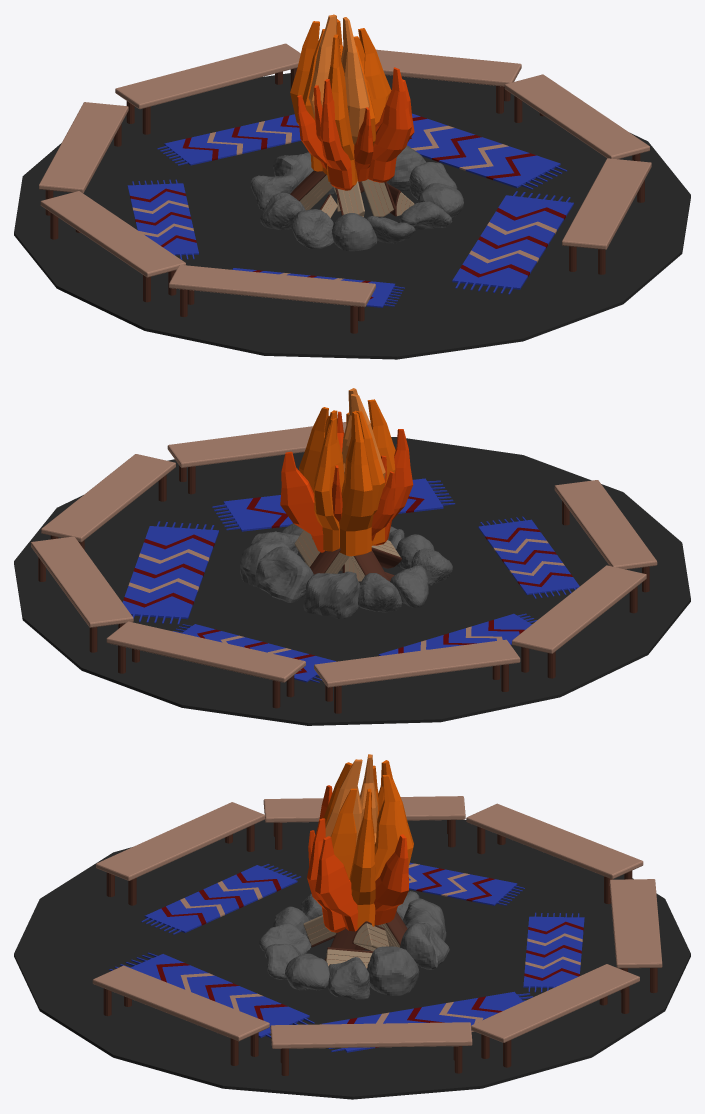
File: sosalnaya_jarovnya1.fbx
3 renders of one model, top to bottom at view 1: azimuth 30°, elevation 25°; view 2: azimuth 150°, elevation 25°; view 3: azimuth 270°, elevation 25°, orthographic.
Visible parts, largest first — view 1: sosalnaya_jarovnya; view 2: sosalnaya_jarovnya; view 3: sosalnaya_jarovnya.
Part boxes in pixels (x1,y1,x2,y2): sosalnaya_jarovnya: (14,14,690,359); sosalnaya_jarovnya: (14,388,690,725); sosalnaya_jarovnya: (14,754,690,1099).
Size of the model in its own units: 200 by 66.58 by 200.
